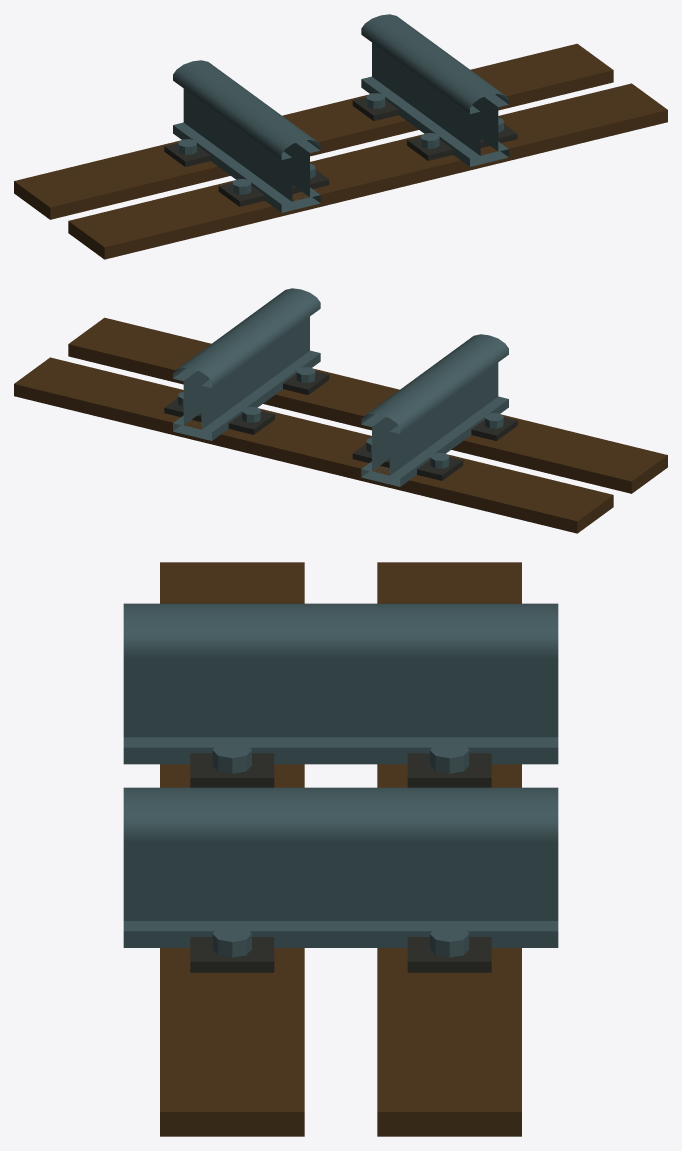
File: CA_053_054_rail_straight.glb
3 views of the same model, one above another, from view 1: azimuth 30°, elevation 25°; view 2: azimuth 150°, elevation 25°; view 3: azimuth 270°, elevation 25° (orthographic). The views are drawn at different scales.
Visible parts, largest first — view 1: wooden_planks, rails, rails_support; view 2: wooden_planks, rails, rails_support; view 3: rails, wooden_planks, rails_support.
Part boxes in pixels (<box>): wooden_planks: <box>14,43,667,259</box>; rails: <box>173,14,508,212</box>; rails_support: <box>164,93,517,206</box>; wooden_planks: <box>14,317,667,533</box>; rails: <box>173,288,508,486</box>; rails_support: <box>164,367,517,480</box>; rails: <box>123,603,558,947</box>; wooden_planks: <box>160,562,521,1136</box>; rails_support: <box>190,741,491,972</box>.
Bounding box in the file's own units: 2.24 × 0.3031 × 0.75.
